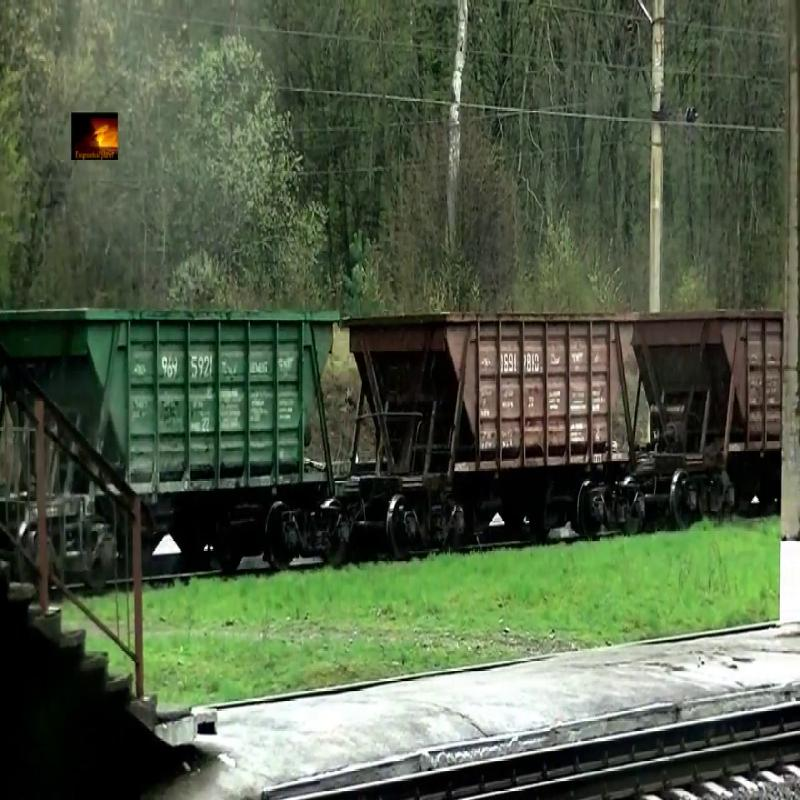train: (1, 308, 342, 488), (347, 311, 638, 468), (634, 312, 778, 471)
